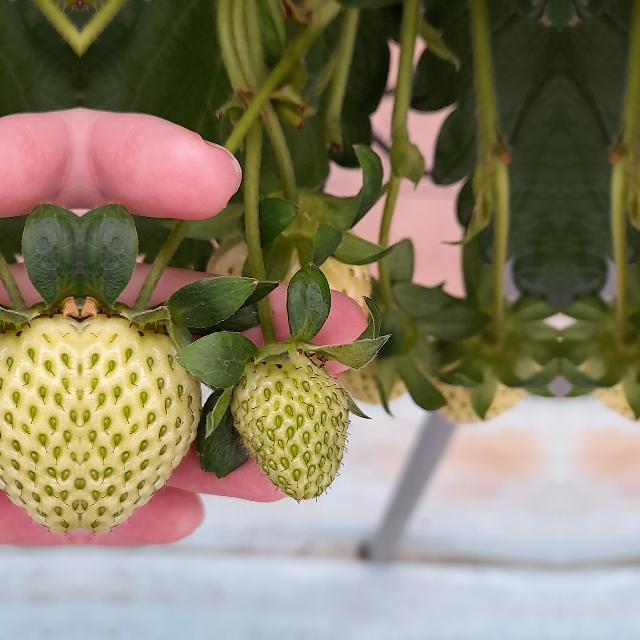Health_25: (80, 313, 204, 539), (0, 313, 80, 539), (230, 354, 350, 500)
